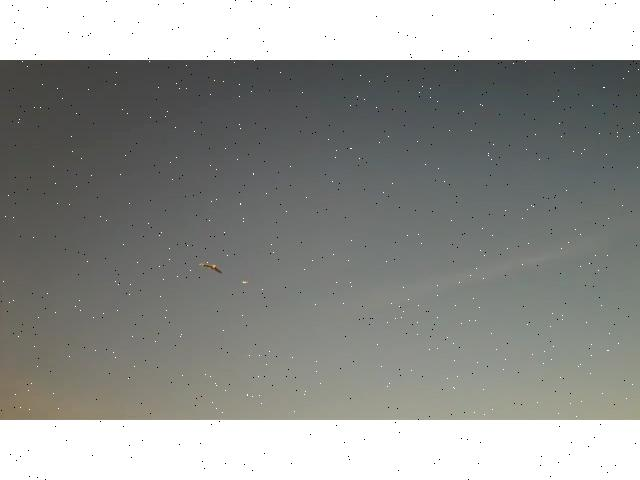Anti-Drone: (200, 263, 222, 274)
